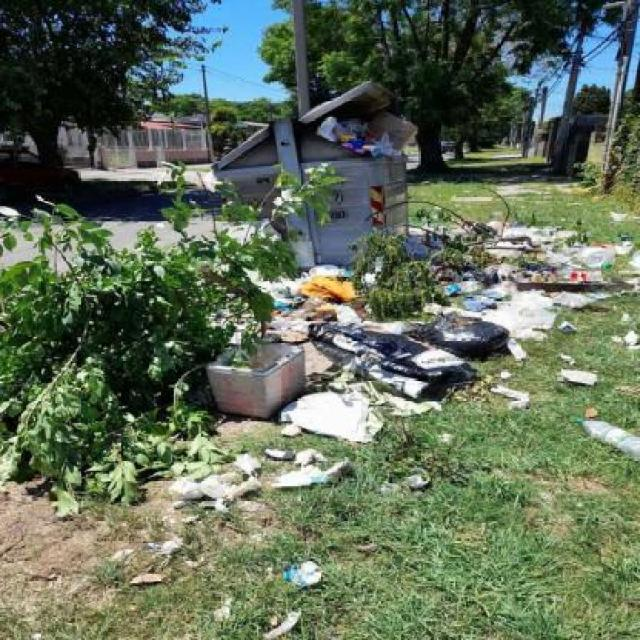garbage: (91, 440, 444, 639), (193, 306, 579, 443), (279, 253, 626, 353), (413, 202, 639, 316), (303, 106, 472, 158), (545, 402, 640, 464)
